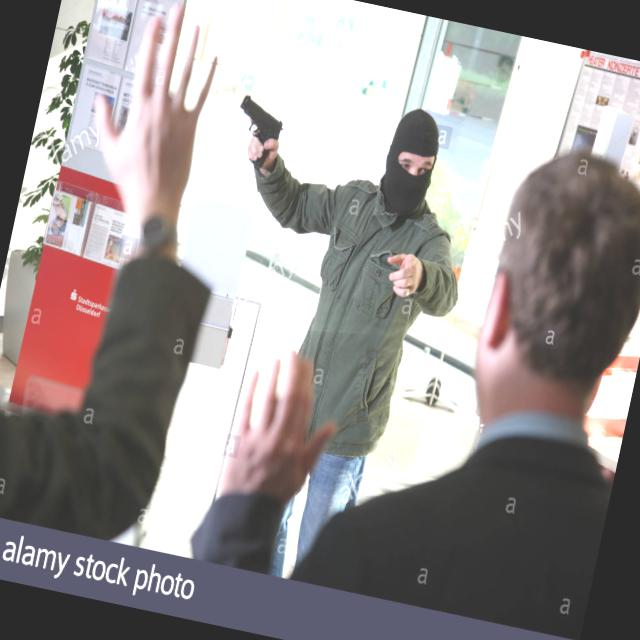handgun: (228, 91, 288, 172)
